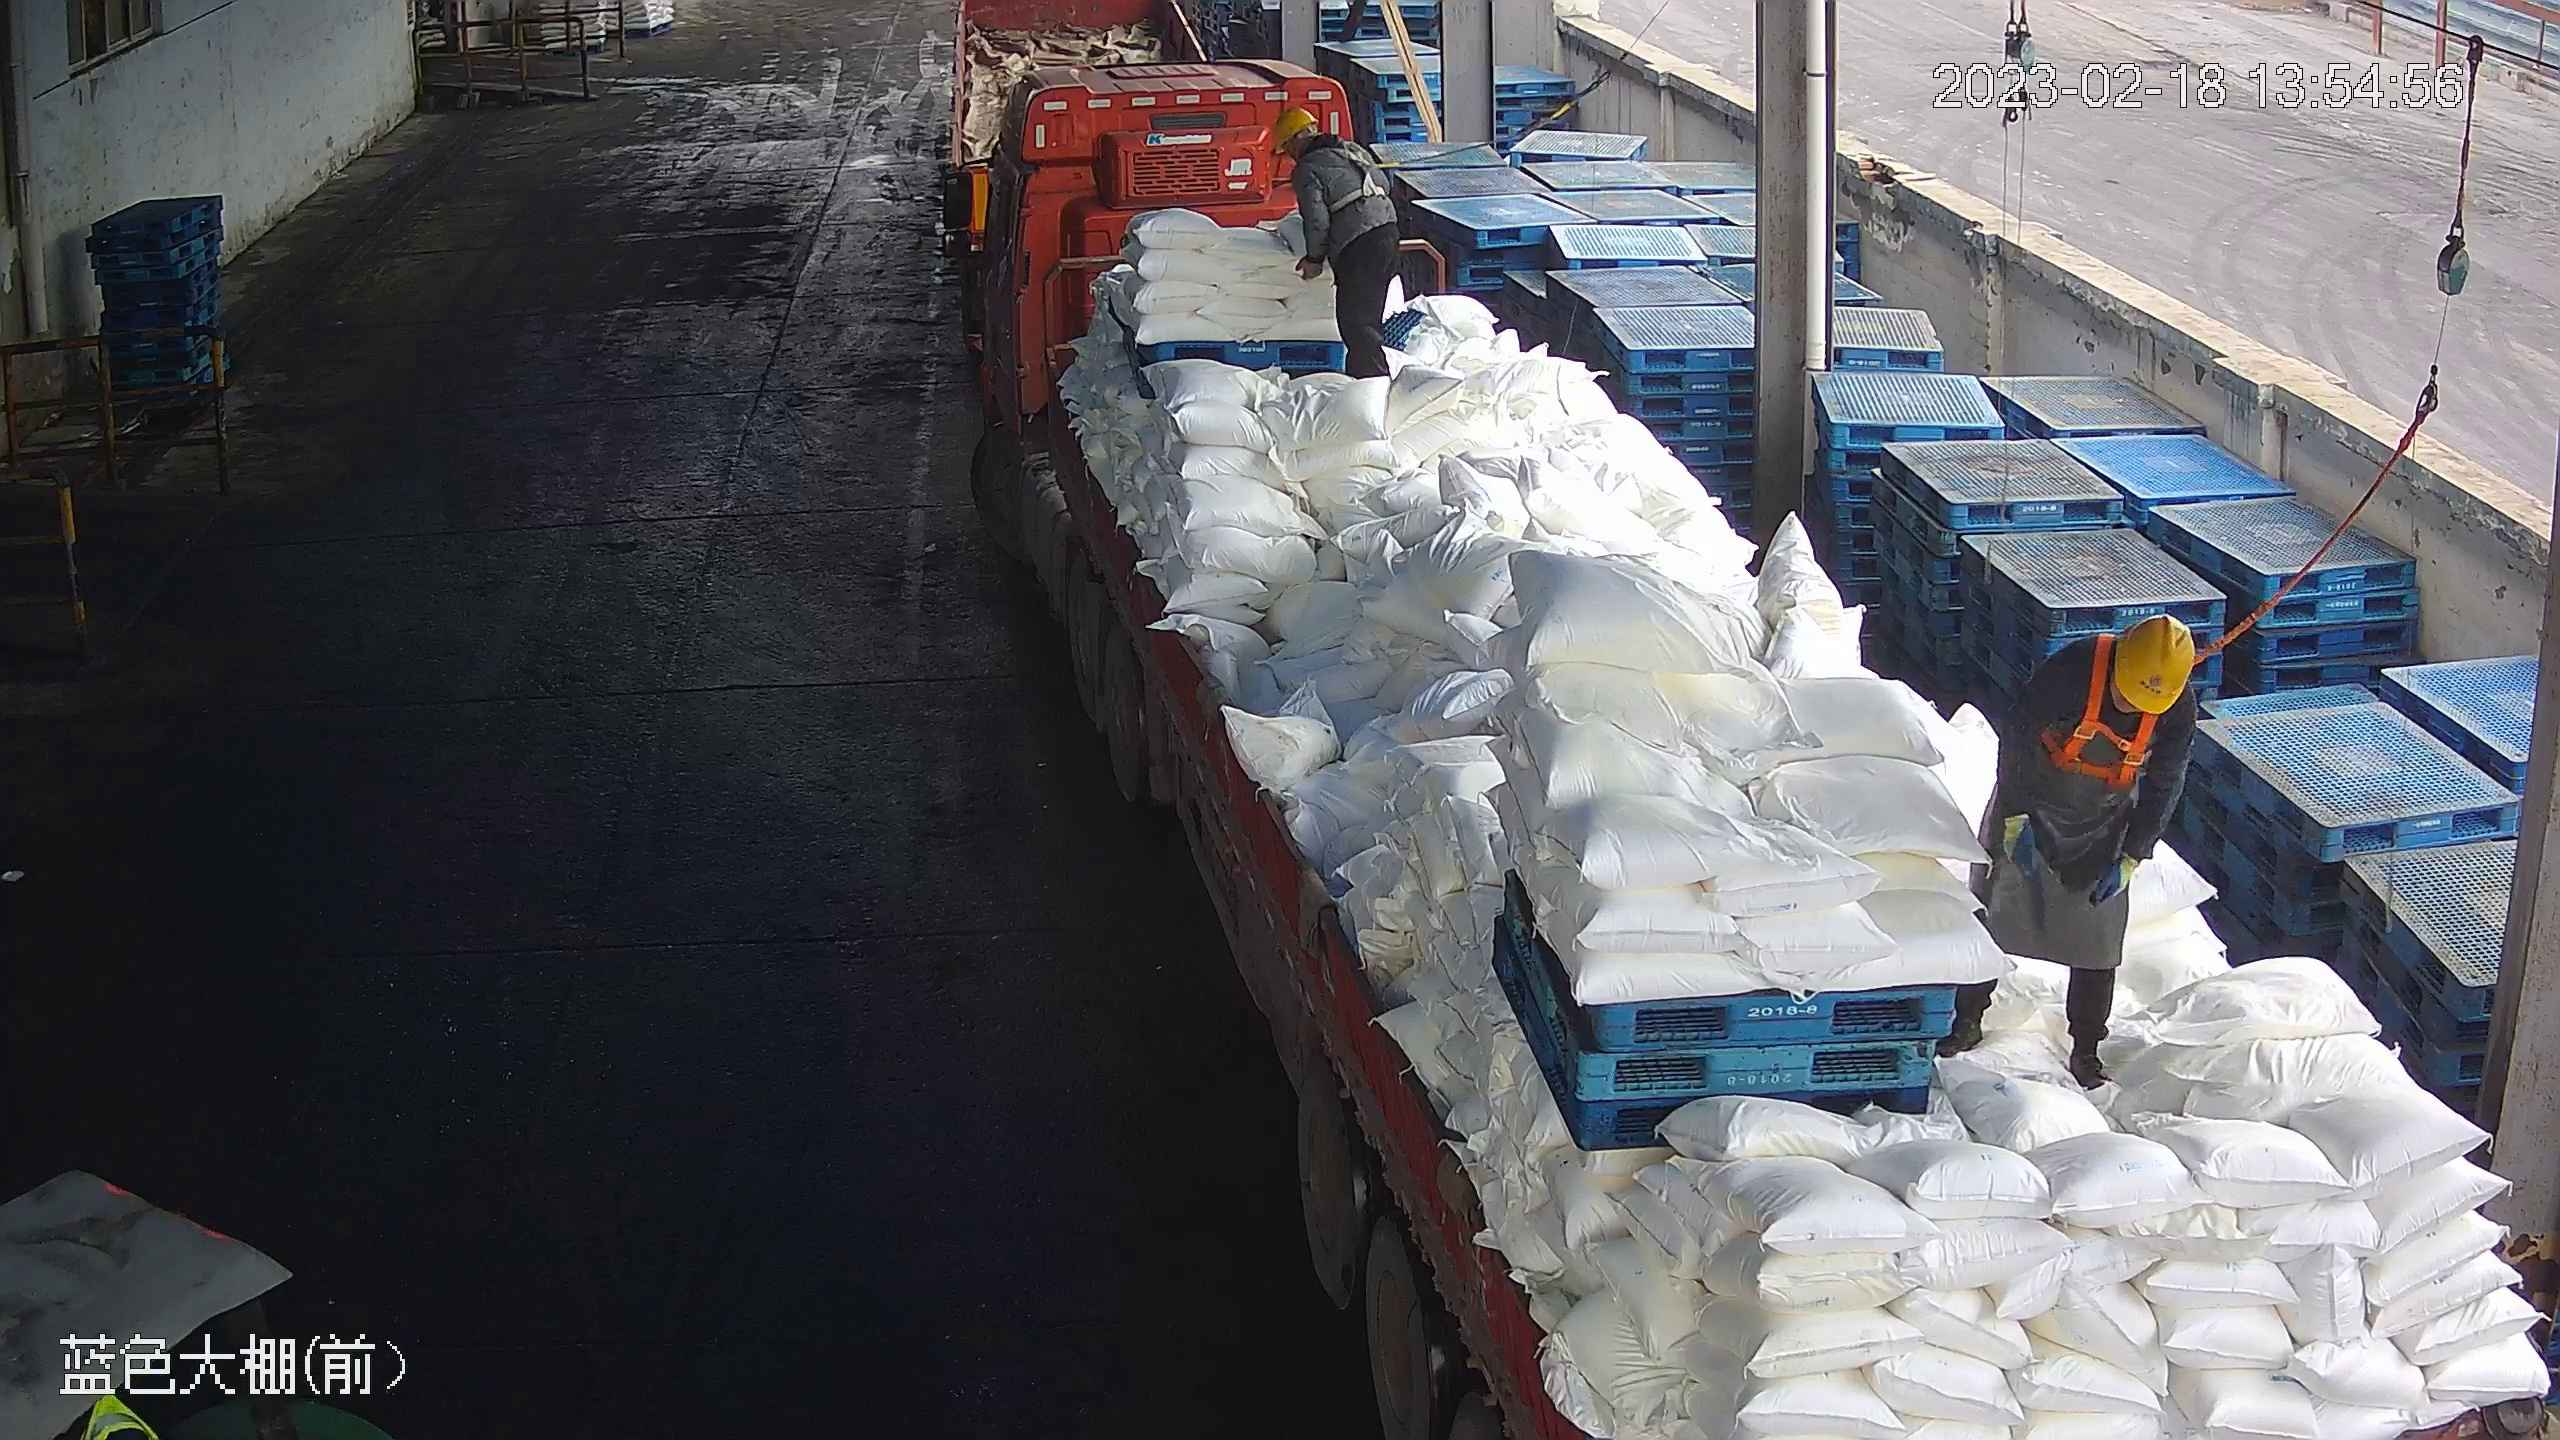belt: (2050, 639, 2167, 798), (1311, 137, 1398, 214)
head: (2026, 610, 2204, 736), (1271, 107, 1375, 183)
helmet: (2111, 612, 2195, 715), (1272, 107, 1321, 151)
people: (1945, 610, 2204, 1091), (1275, 106, 1402, 384)
truck: (955, 53, 2558, 1440)
